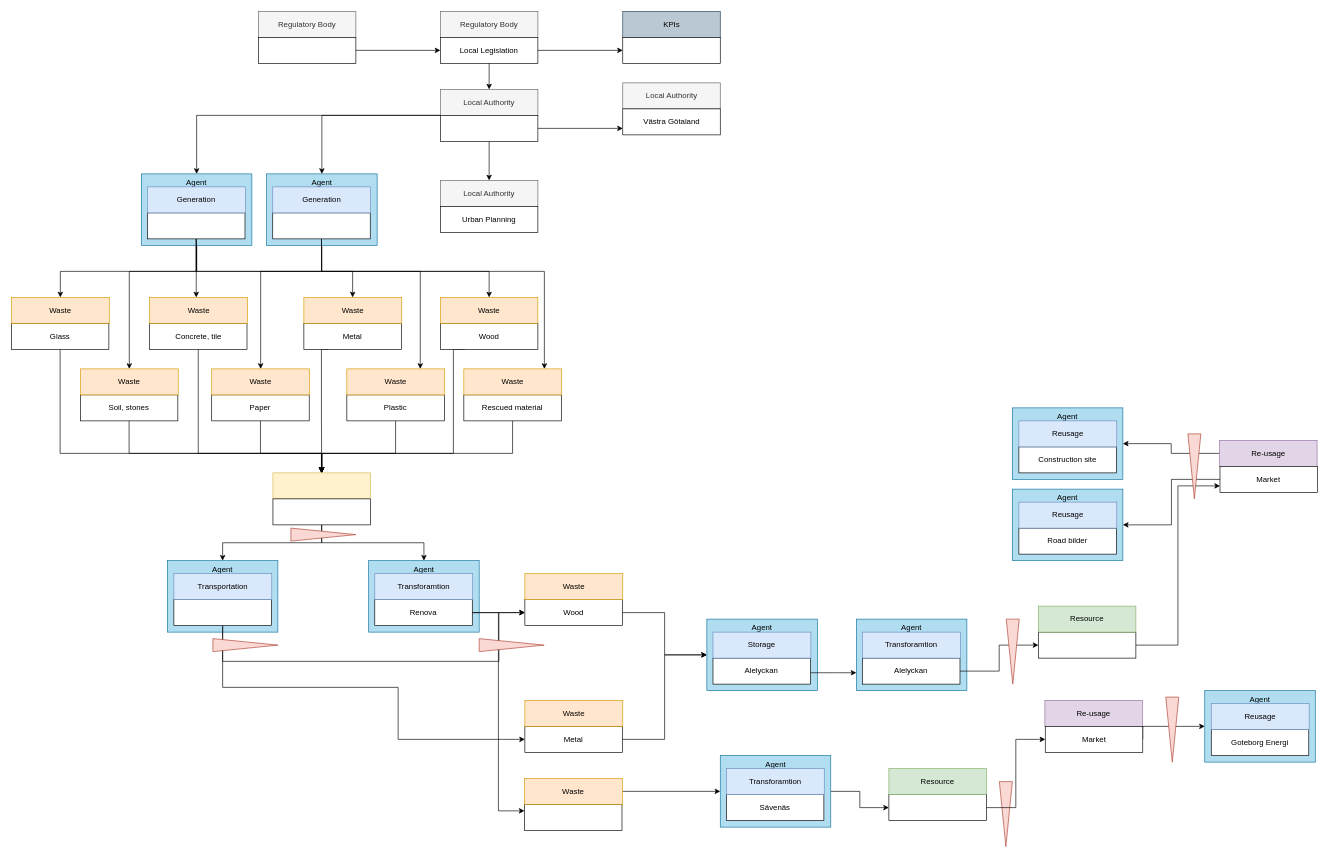
The diagram is 1329 pixels wide and 858 high, and some of its shapes have lost their labels. Each missing label, with the centre of its shape:
concrete and tiles: point (1087, 644)
Construction firm A: point (196, 225)
Container: point (321, 485)
Demolition firm B: point (321, 225)
Energy: point (937, 807)
Gothenburg stad: point (489, 128)
Mix: point (573, 817)
National Laws: point (307, 50)
On site container: point (321, 511)
Stena: point (222, 612)
